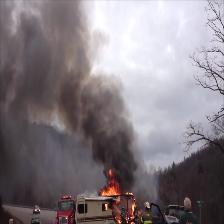fire: (100, 185, 121, 197)
smoke: (6, 22, 95, 117), (88, 117, 135, 179)
